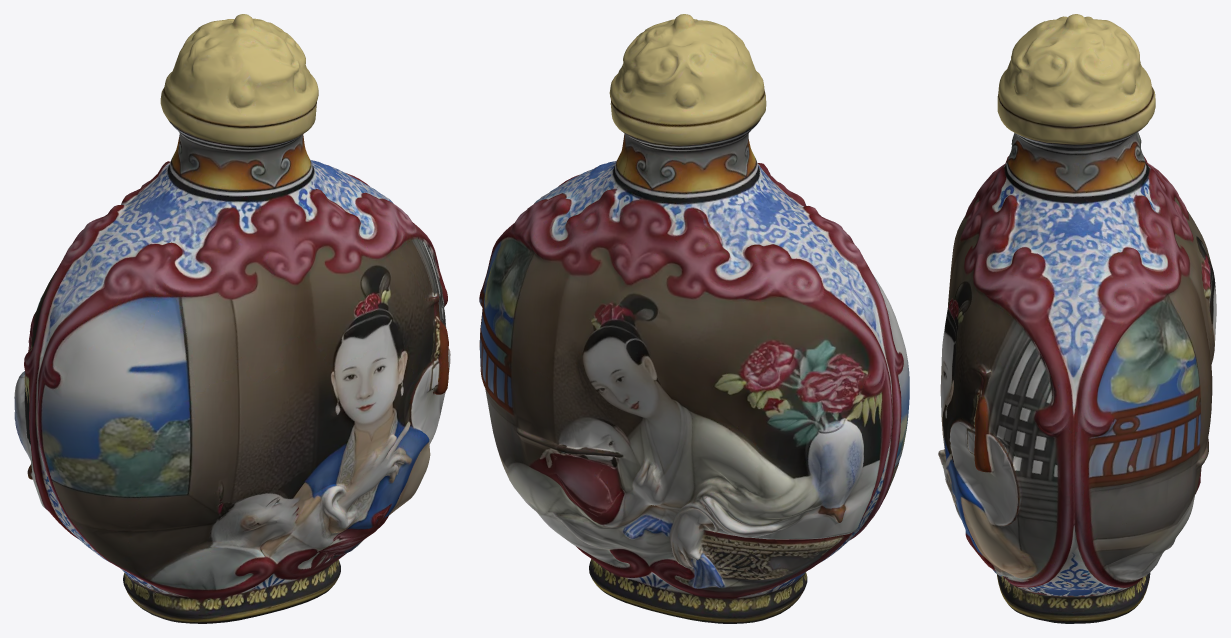
Rendered from 铜胎画珐琅课子图鼻烟壶.glb.
The picture shows the model from 3 angles, left to right: view 1: azimuth 30°, elevation 25°; view 2: azimuth 150°, elevation 25°; view 3: azimuth 270°, elevation 25°; orthographic projection.
Parts seen in each view (by area): view 1: tripo_node_bf06cf4a; view 2: tripo_node_bf06cf4a; view 3: tripo_node_bf06cf4a.
Boxes of the visible parts, x1,y1,x2,y2 form: tripo_node_bf06cf4a: [14, 14, 450, 623]; tripo_node_bf06cf4a: [479, 14, 909, 623]; tripo_node_bf06cf4a: [938, 14, 1216, 623].
Bounding box in the file's own units: 72.74 × 97.84 × 43.22.
1 material, 1 textured.
